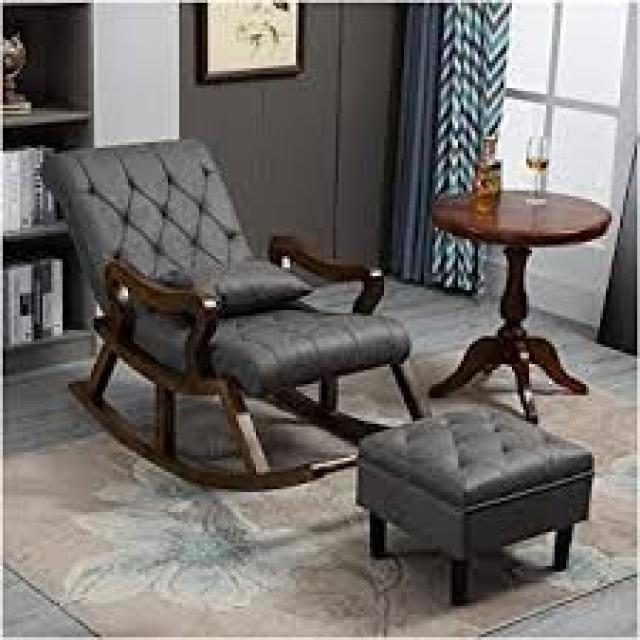chair: (36, 137, 456, 496)
